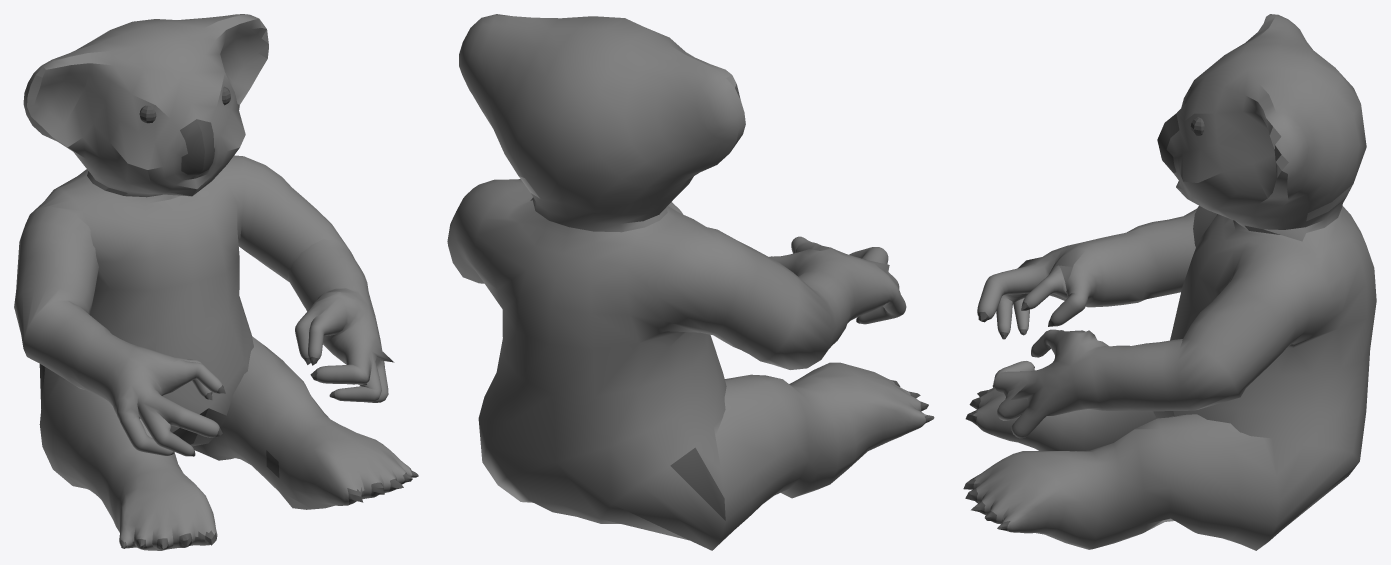
Rendered from Koala.fbx.
The picture shows the model from 3 angles, left to right: view 1: azimuth 30°, elevation 25°; view 2: azimuth 150°, elevation 25°; view 3: azimuth 270°, elevation 25°; orthographic projection. The views are drawn at different scales.
Parts seen in each view (by area): view 1: Skin_ZSphere_4; view 2: Skin_ZSphere_4; view 3: Skin_ZSphere_4.
Boxes of the visible parts, x1,y1,x2,y2 form: Skin_ZSphere_4: [14, 14, 418, 550]; Skin_ZSphere_4: [447, 14, 934, 550]; Skin_ZSphere_4: [963, 14, 1376, 550].
Size of the model in its own units: 4.24 by 5.55 by 4.51.
